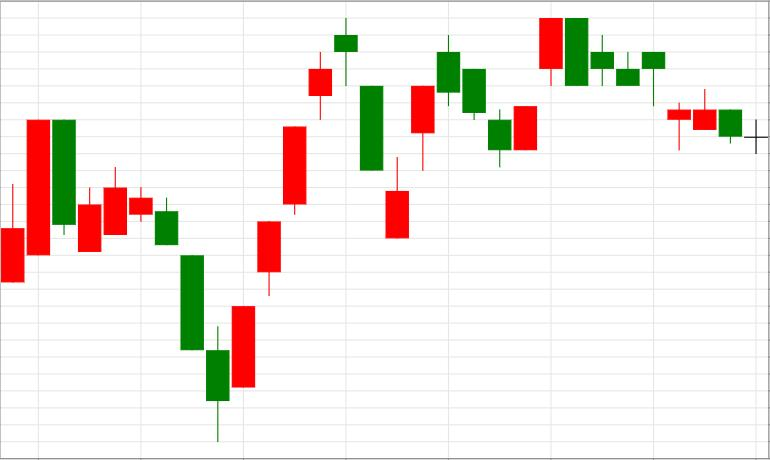bearish_engulfing_fall: (488, 18, 589, 168)
evening_star_fall: (232, 18, 383, 388)
three_white_soldiers_rise: (155, 127, 306, 442)
